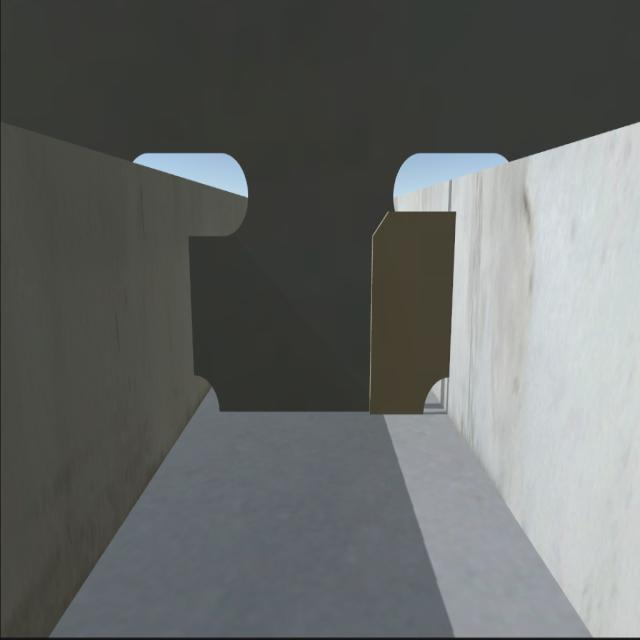fillet_hole: (188, 371, 222, 421), (423, 371, 453, 420)
fillet_yong_jeop_jang: (219, 404, 424, 423)
longi_yong_jeop_jang: (446, 209, 460, 376), (185, 239, 197, 376)
plate_CP03: (365, 200, 452, 410)
